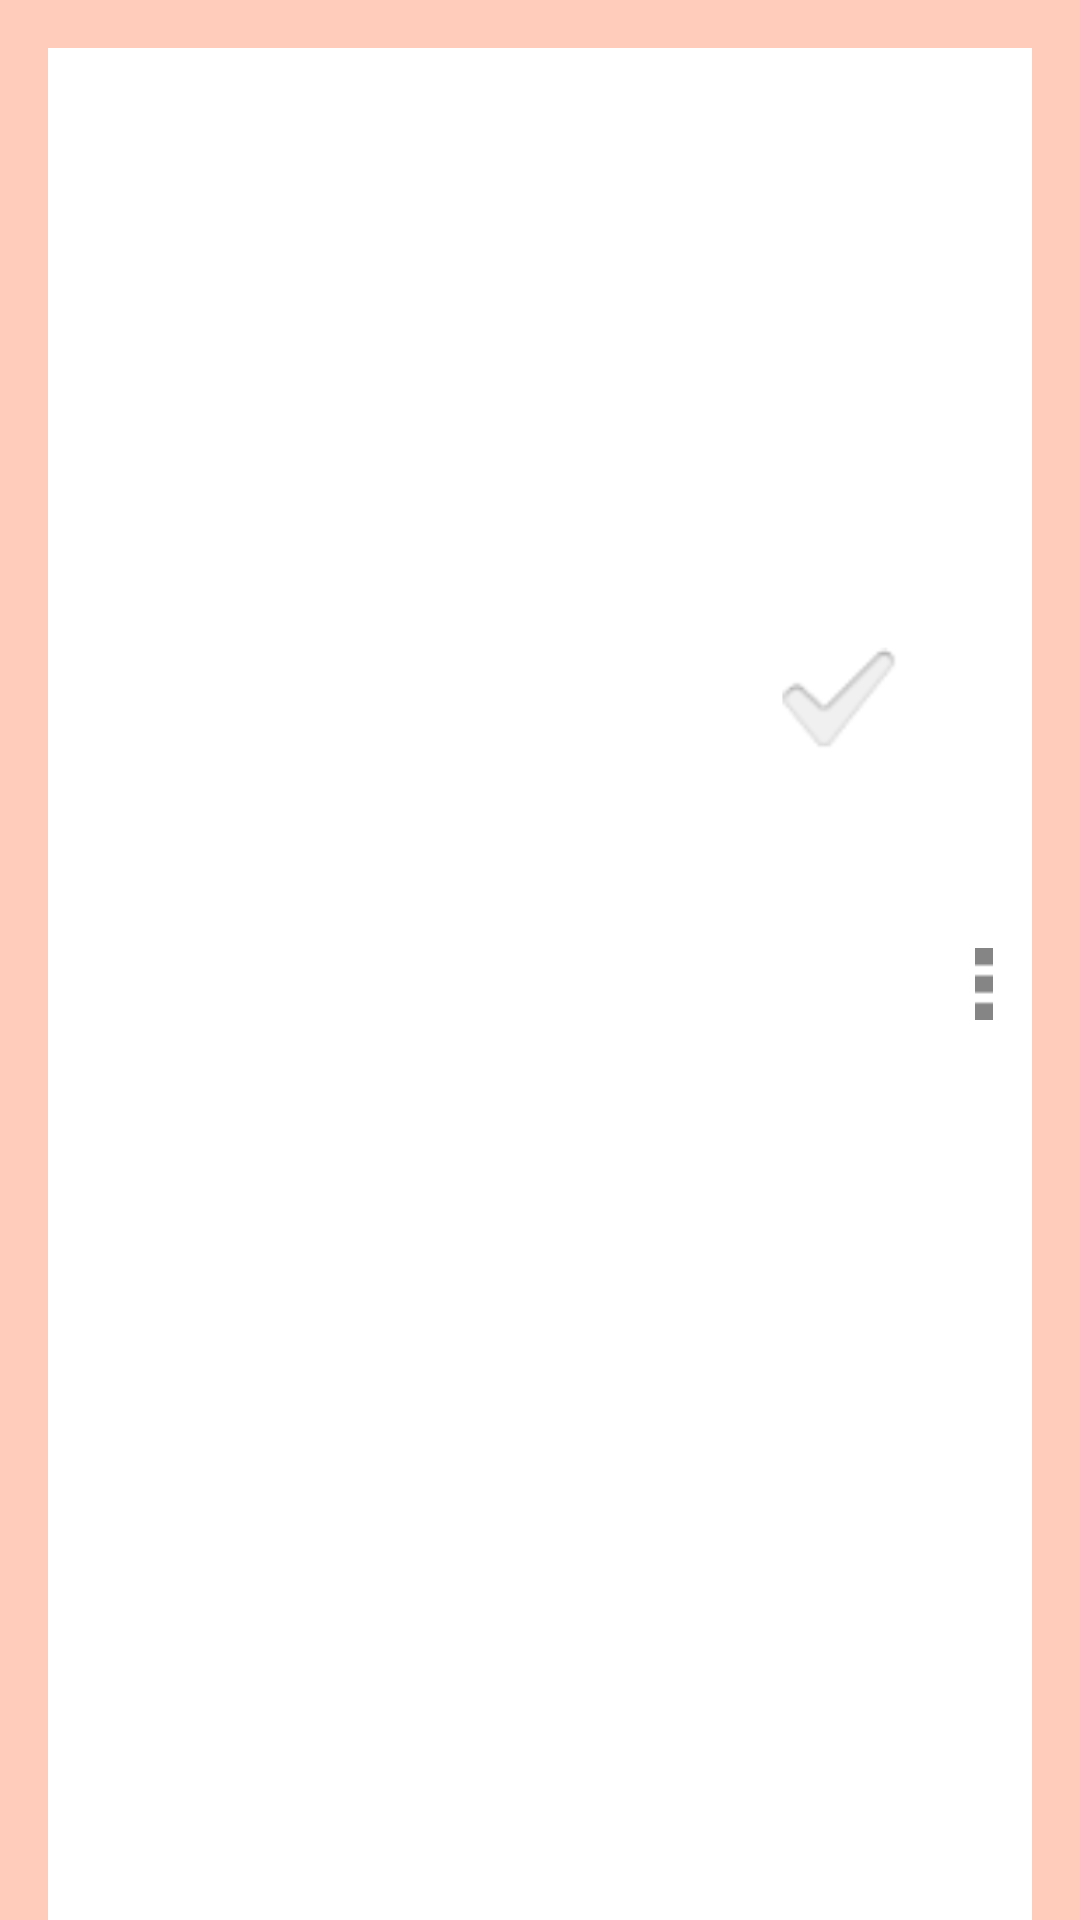

Icon click points for this 1080 × 1920 phone screenshot, format (x,y):
Popup Menu: (984,984)
Visited: (838,698)
